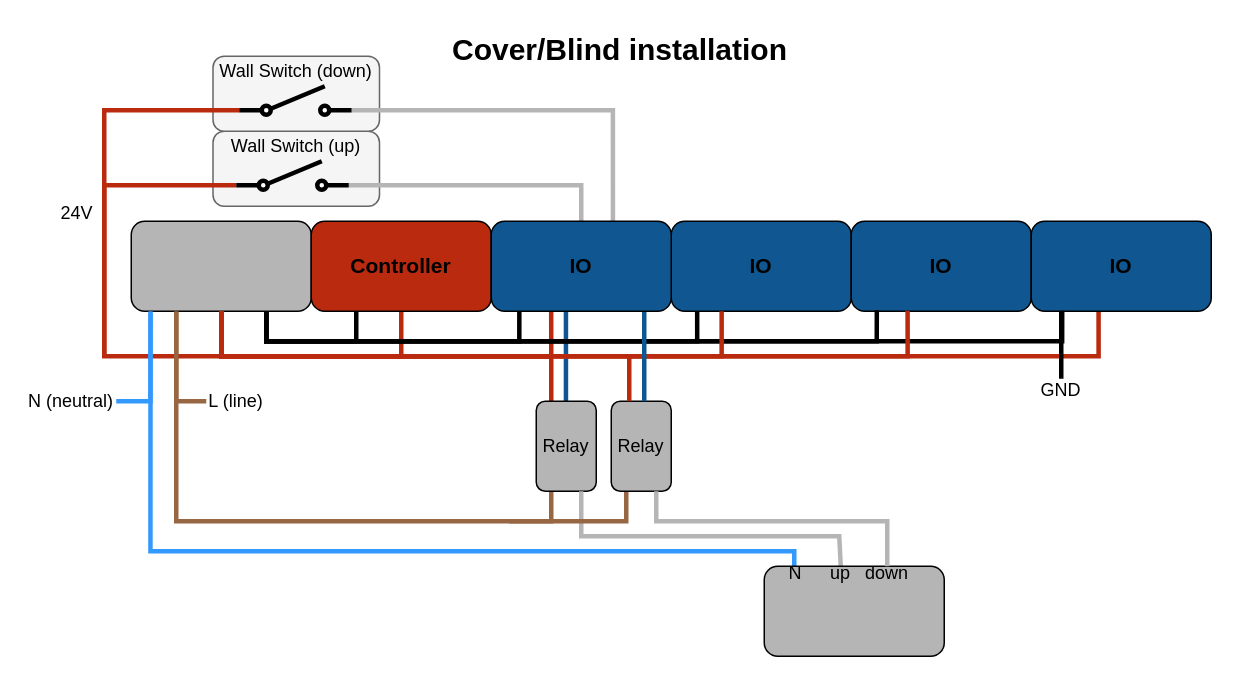
The diagram is 1238 pixels wide and 683 high, and some of its shapes have lost their labels. The shapes that lost their labels are listed below. From the top down, each one's box as (x1, y1, x2, y2) in pixels, then its label:
(130, 220, 311, 311): Powersuplly
(763, 565, 944, 656): Cover/Blind
